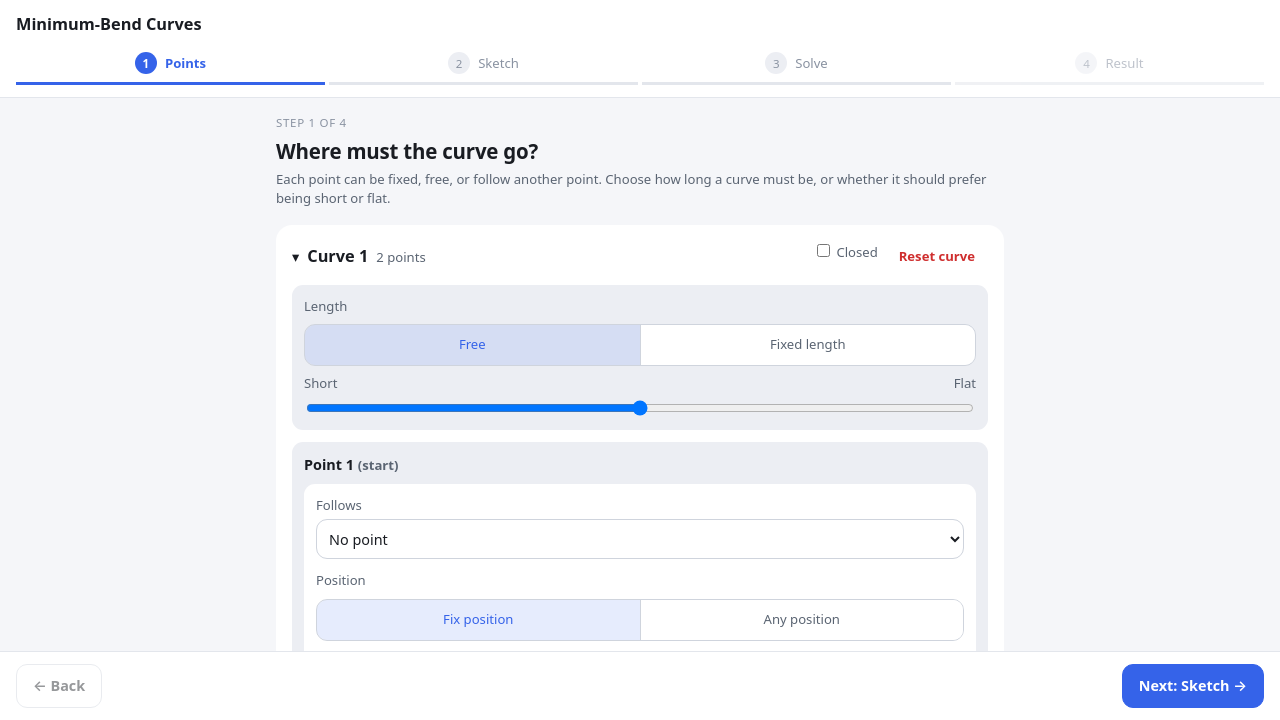
Test: wizard › walks through the steps without crashing and keeps Result locked until a run exists
Expected: the heading "Where must the curve go?" is shown, [276,137,538,165]
Click the button "Next: Sketch →" at (1193, 686), box [1122,664,1264,708]
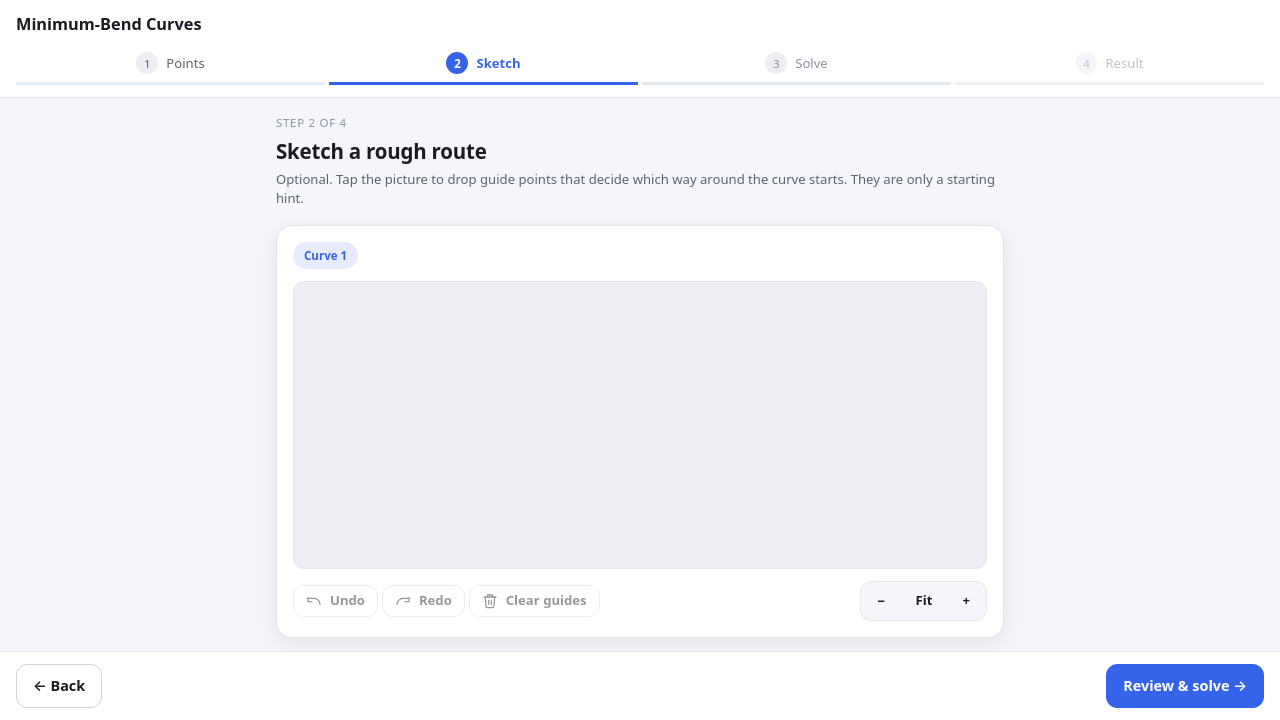
Result: the heading "Sketch a rough route" is shown at [276,137,486,165]
Click the button "Review & solve →" at (1185, 686), box [1106,664,1264,708]
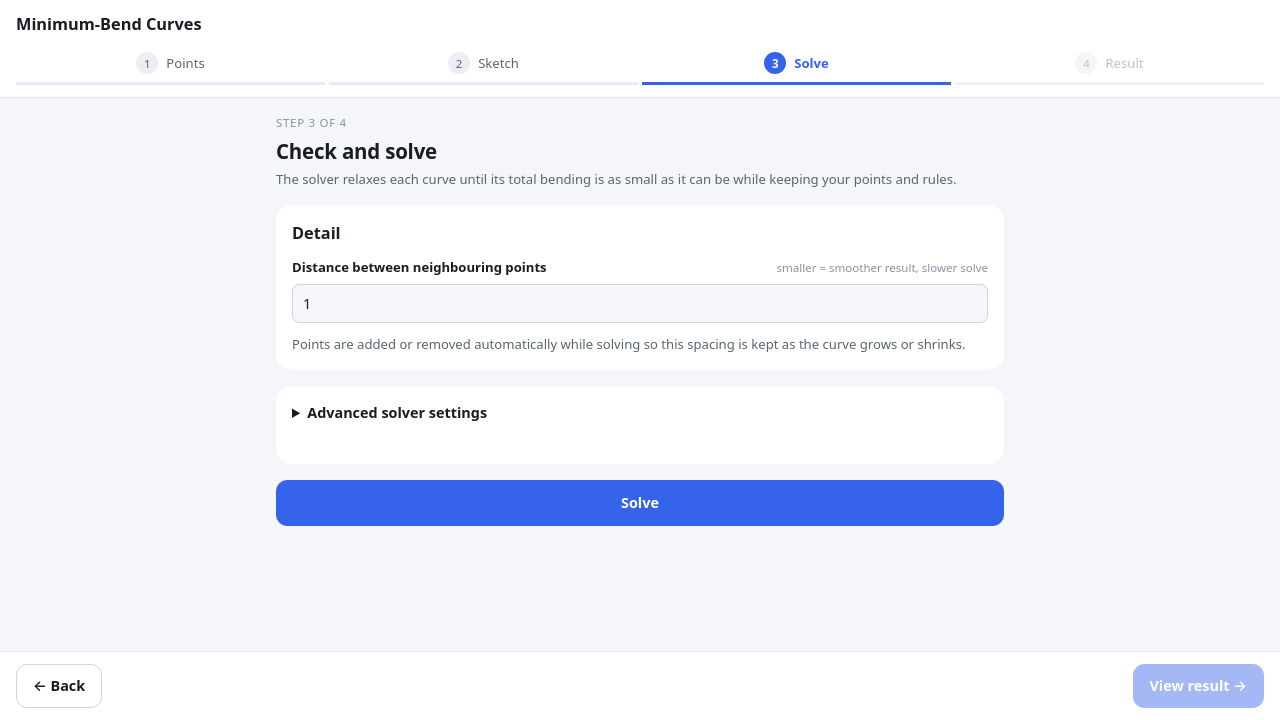
Result: the heading "Check and solve" is shown at [276,137,437,165]
Result: the button "View result →" is disabled at [1132,664,1264,708]
